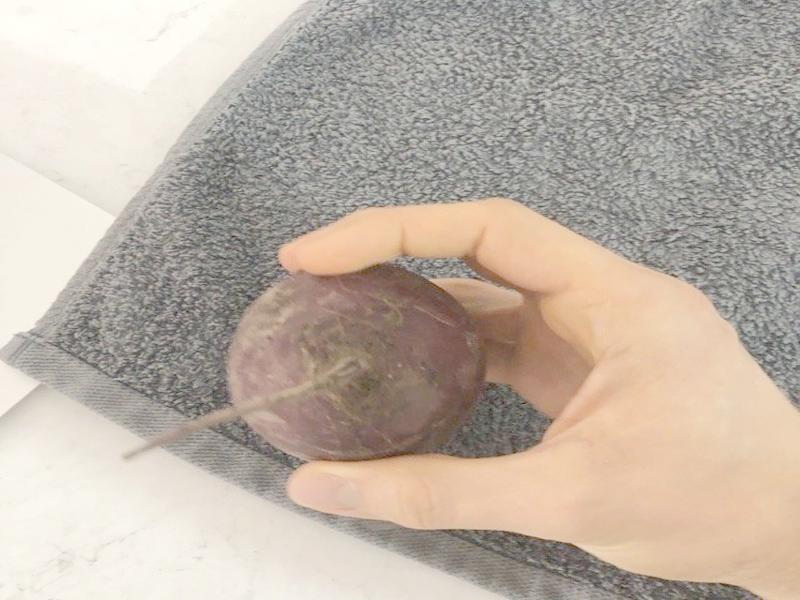Beet: (120, 263, 484, 462)
